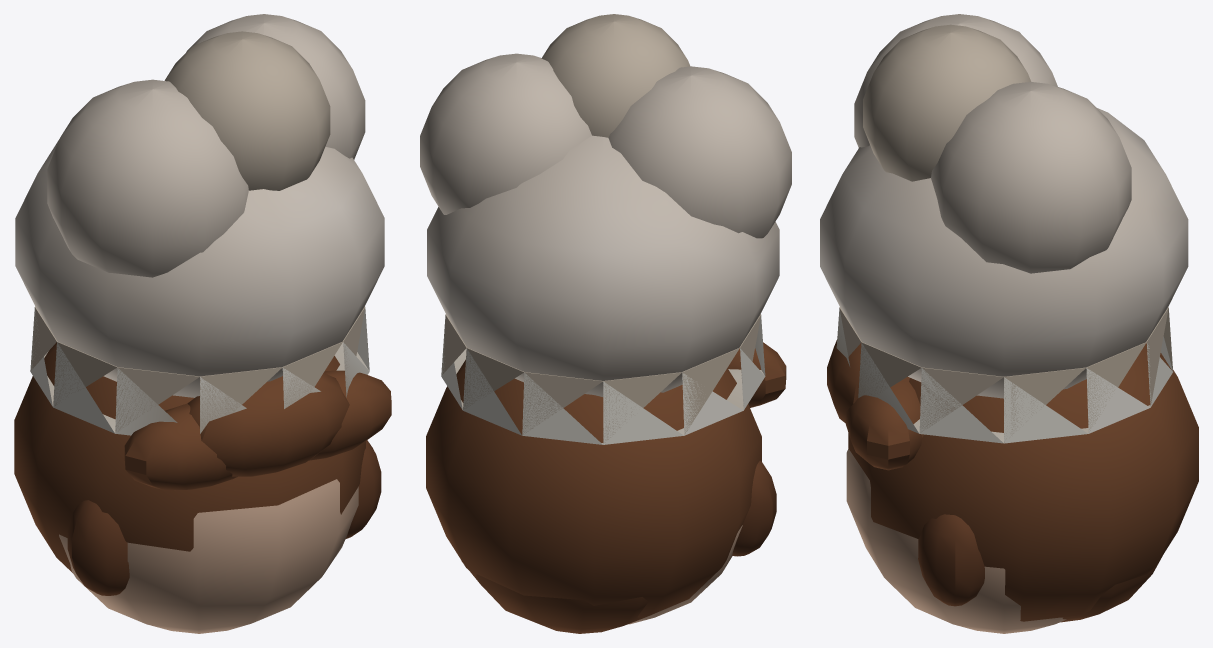
Rendered from p-boy-chef-head.glb.
3 views of the same model, side by side, from view 1: azimuth 30°, elevation 25°; view 2: azimuth 150°, elevation 25°; view 3: azimuth 270°, elevation 25° (orthographic). The views are drawn at different scales.
Visible parts, largest first — view 1: player_p-boy-chef-head; view 2: player_p-boy-chef-head; view 3: player_p-boy-chef-head.
Boxes of the visible parts, x1,y1,x2,y2 form: player_p-boy-chef-head: (14,14,391,633); player_p-boy-chef-head: (420,14,791,633); player_p-boy-chef-head: (820,14,1198,633).
Bounding box in the file's own units: 0.4214 × 0.7358 × 0.4257.
